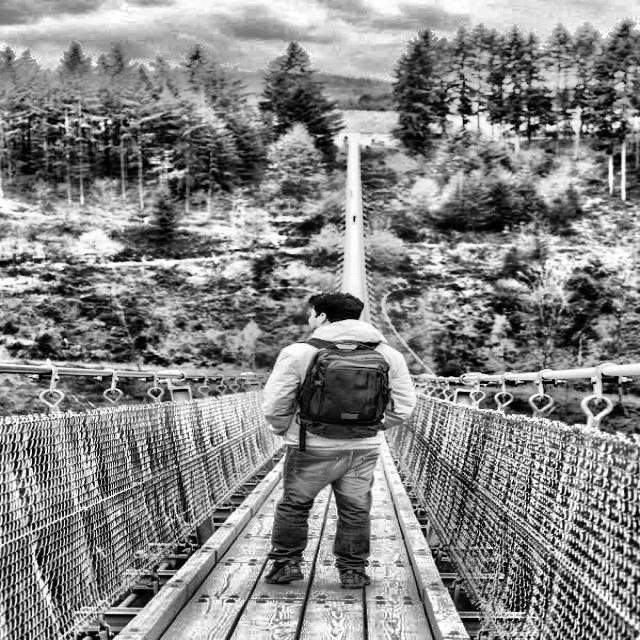Human: (241, 282, 404, 590)
